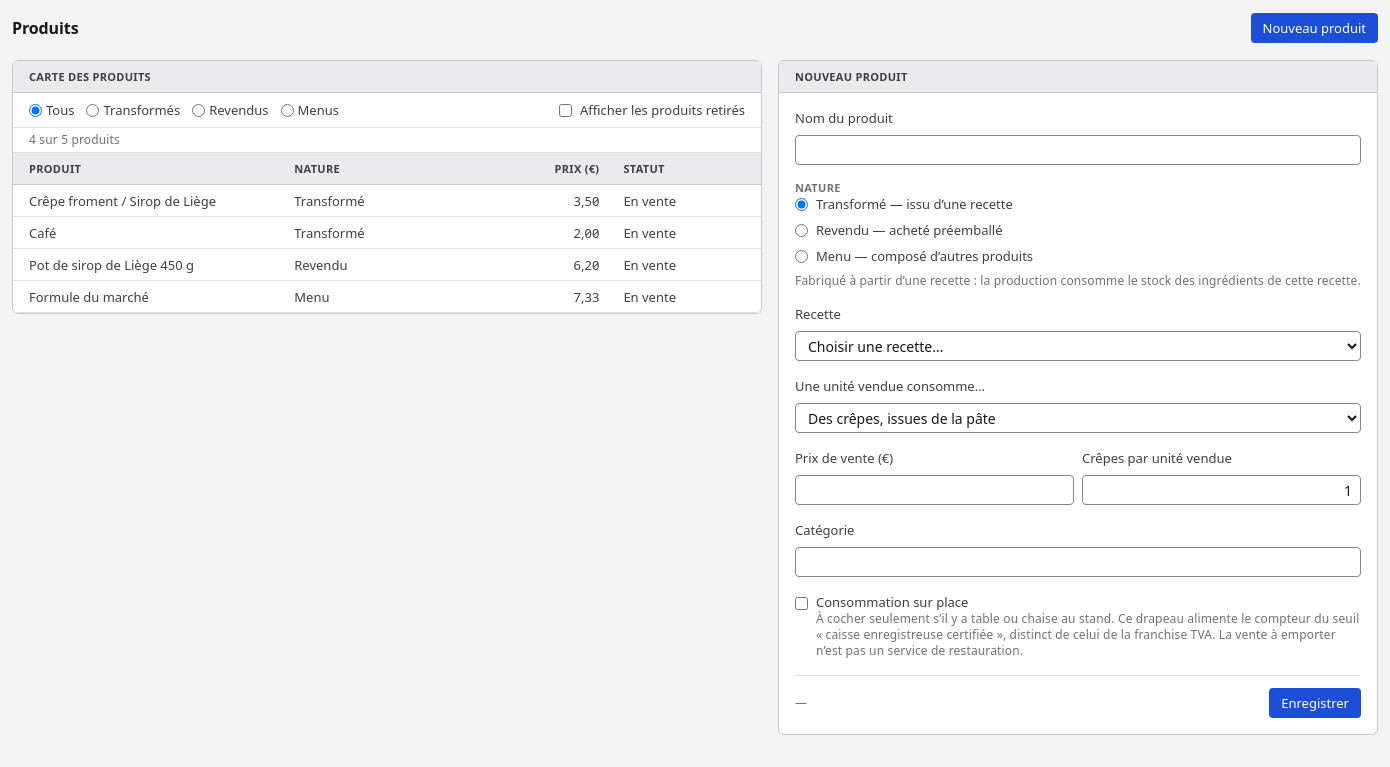
Test: Produits — un coût de revient inconnu ne vaut jamais zéro › nomme LE composant de vente fautif, et jamais l’option qui ne compte pas dans le total
The width and height of the screenshot is (1390, 767).
Click the row "Café Transformé 2,00 En vente" at (387, 233), box [13,217,761,249]
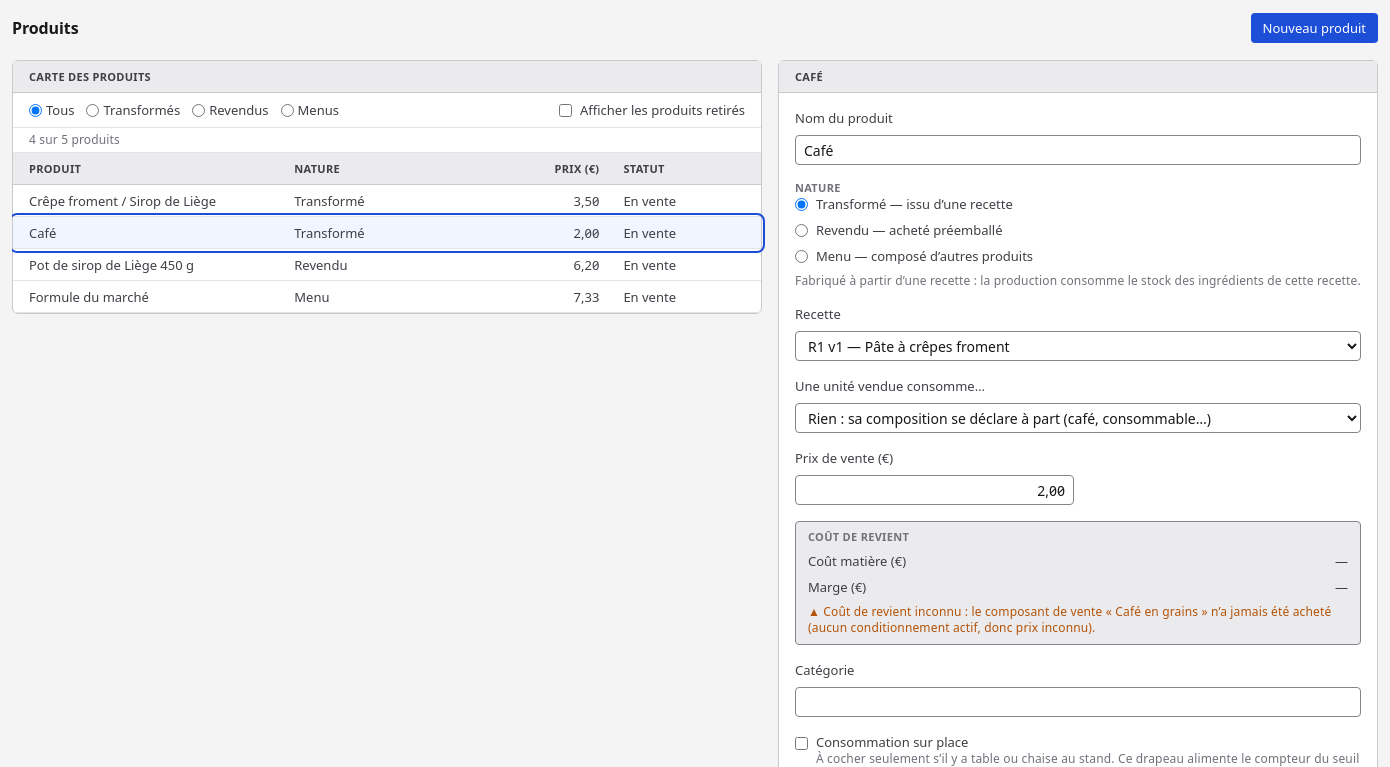
Check: the message does not show "Crème liquide", box [808,604,1348,636]
Check: the message shows "Café en grains", box [808,603,1331,636]
